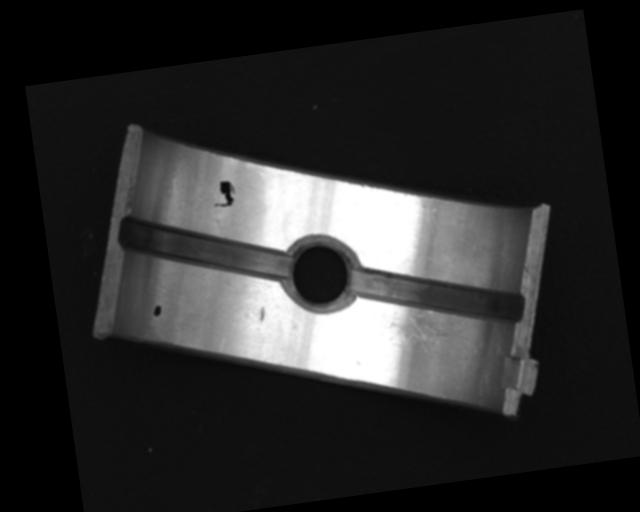blot: (210, 178, 237, 209), (151, 304, 163, 317)
bruise: (257, 305, 267, 322)
gap: (114, 196, 295, 300), (348, 246, 525, 342)
hole: (279, 233, 362, 316)
scratch: (383, 300, 488, 366)
